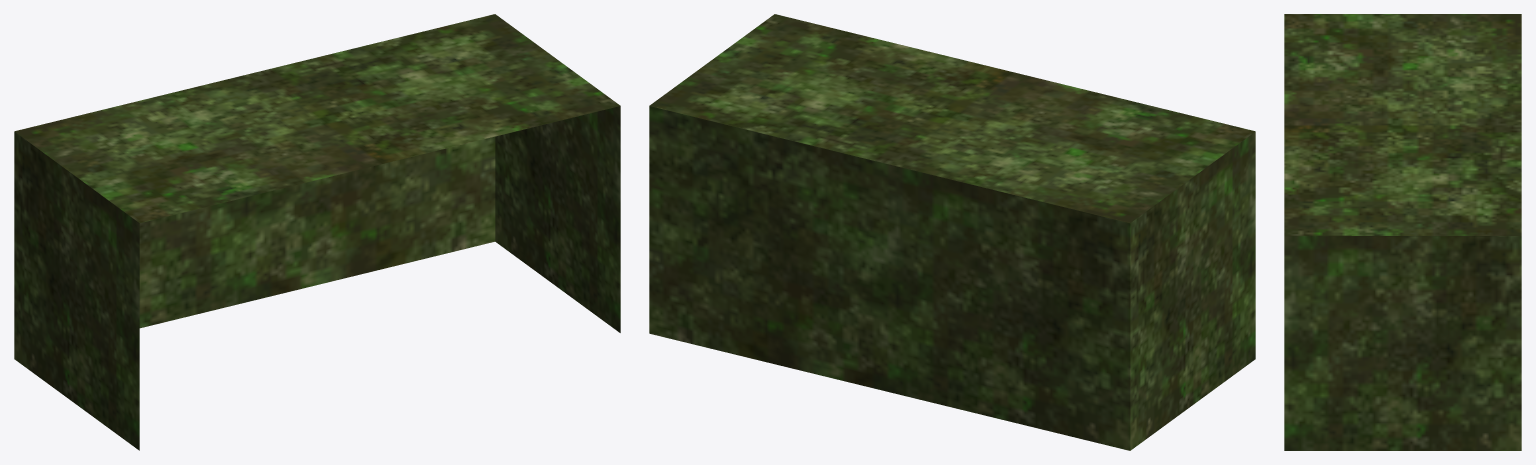
The model's file is OVERHILL_A_01_OBJECT85.fbx.
The picture shows the model from 3 angles, left to right: view 1: azimuth 30°, elevation 25°; view 2: azimuth 150°, elevation 25°; view 3: azimuth 270°, elevation 25°; orthographic projection. The views are drawn at different scales.
Parts seen in each view (by area): view 1: OVERHILL_A_01_OBJECT85; view 2: OVERHILL_A_01_OBJECT85; view 3: OVERHILL_A_01_OBJECT85.
Part boxes in pixels (x1,y1,x2,y2): OVERHILL_A_01_OBJECT85: (14, 14, 620, 450); OVERHILL_A_01_OBJECT85: (649, 14, 1255, 450); OVERHILL_A_01_OBJECT85: (1284, 14, 1521, 450).
Bounding box in the file's own units: 31223 × 14121 × 14121.
1 material, 1 textured.
